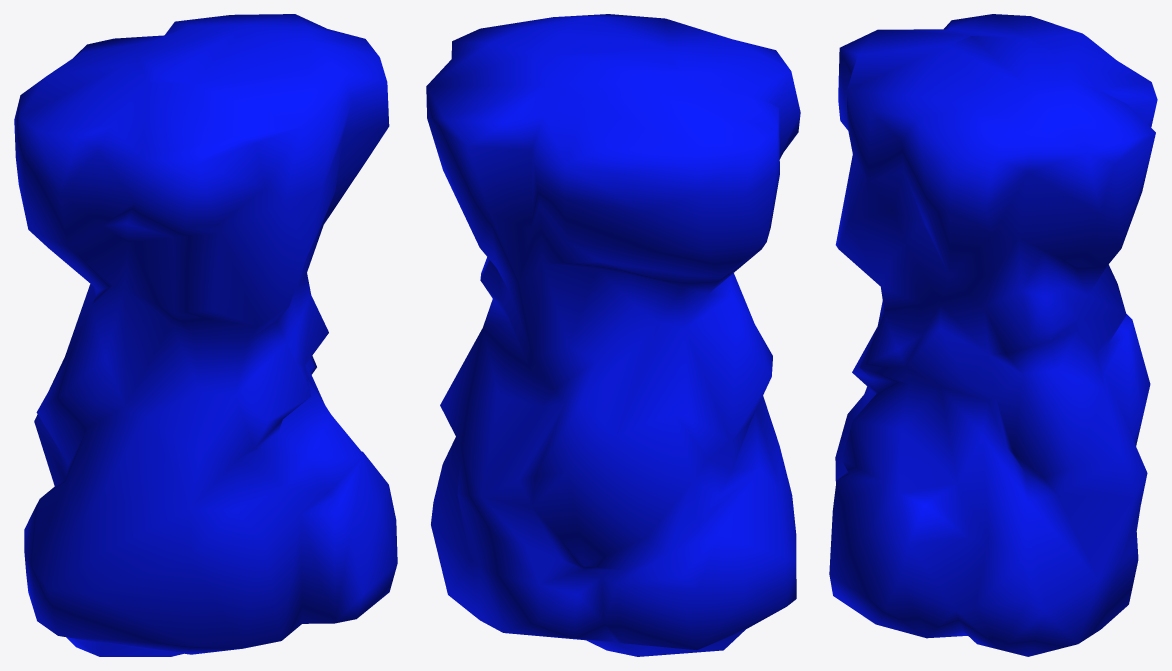
File: StonePillar_LOD1.FBX
3 views of the same model, side by side, from view 1: azimuth 30°, elevation 25°; view 2: azimuth 150°, elevation 25°; view 3: azimuth 270°, elevation 25° (orthographic). The views are drawn at different scales.
Visible parts, largest first — view 1: StonePillar_LOD1; view 2: StonePillar_LOD1; view 3: StonePillar_LOD1.
Part boxes in pixels (left/top/right/bottom): StonePillar_LOD1: left=14, top=14, right=397, bottom=656; StonePillar_LOD1: left=426, top=14, right=800, bottom=656; StonePillar_LOD1: left=829, top=14, right=1157, bottom=656.
Size of the model in its own units: 737 by 638 by 1209.
